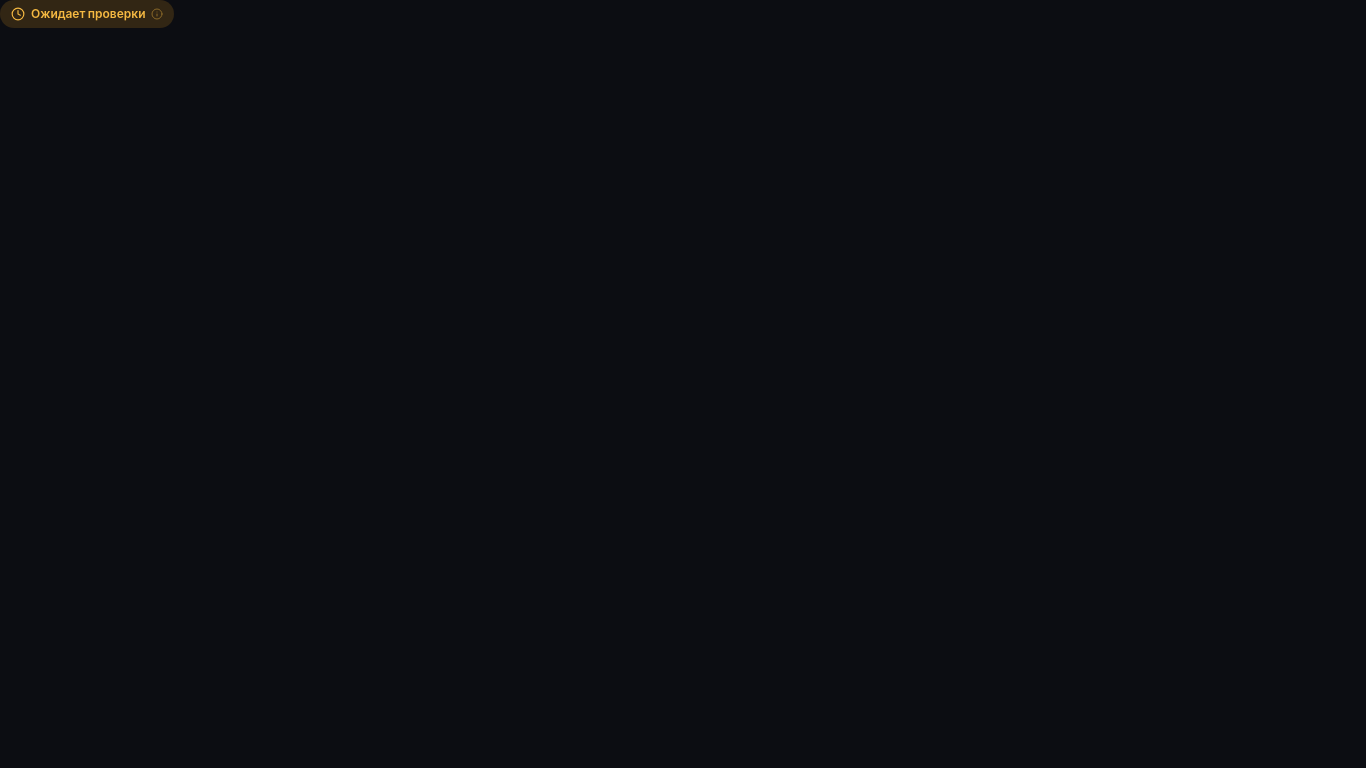
StoreStatusBadge › opens the dialog with seller-specific copy for a pending own store
Click the button with aria-label "Статус магазина: Ожидает проверки" at (87, 14), box [0, 0, 174, 28]
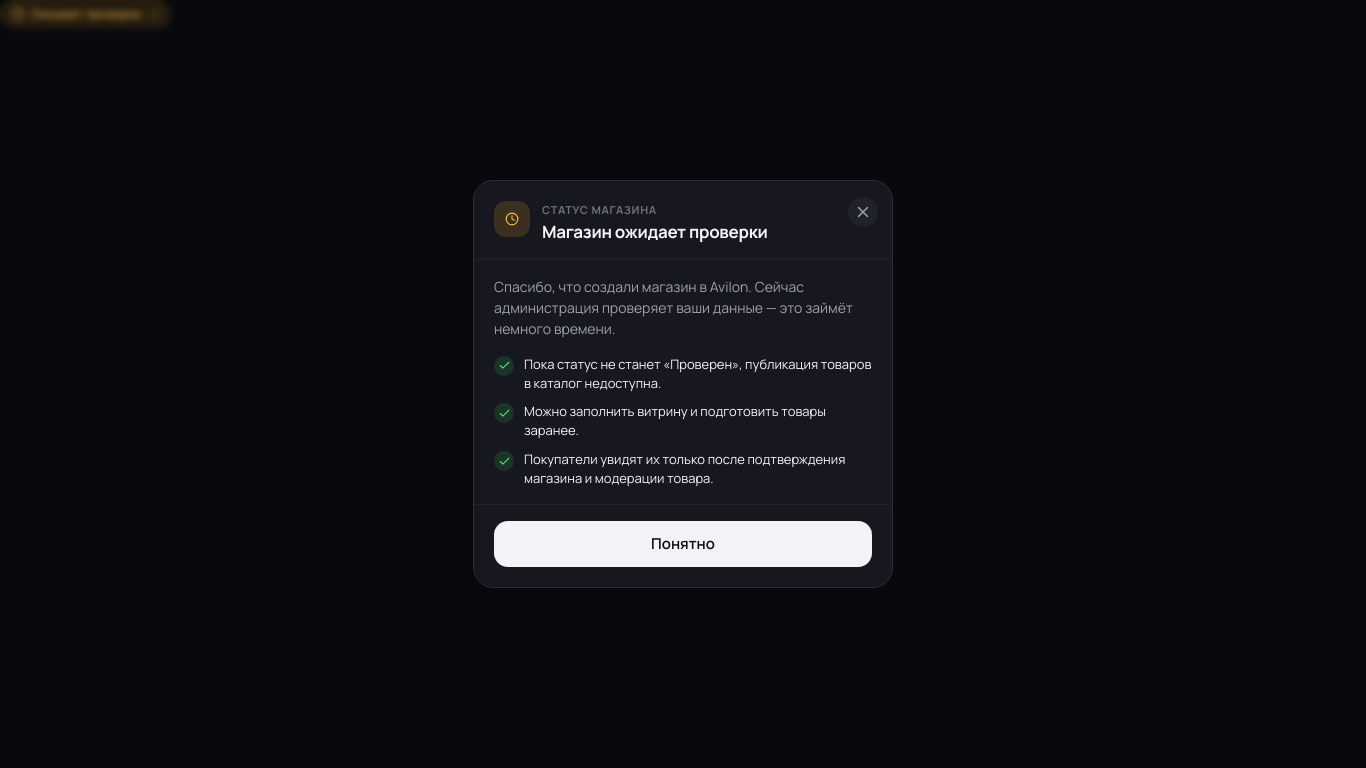
Expected: the dialog is shown, [473, 180, 893, 588]
Expected: the heading "Магазин ожидает проверки" is shown, [542, 220, 768, 243]
Expected: the text "публикация товаров в каталог недоступна" is shown, [524, 355, 871, 392]
